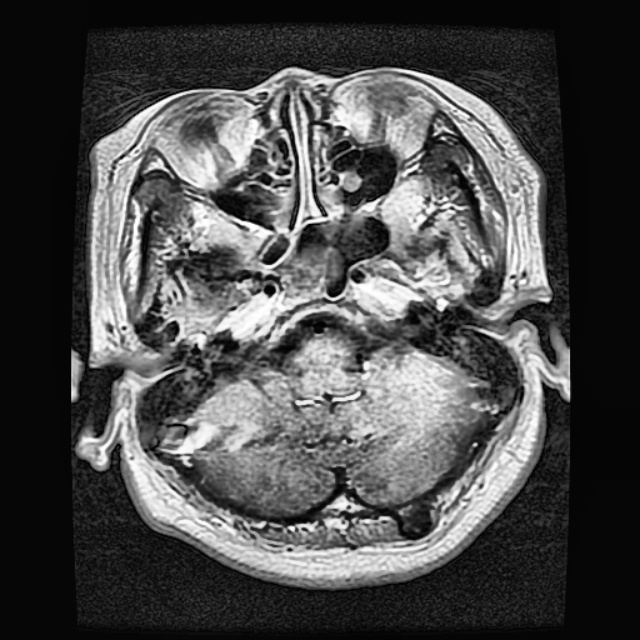Pituitary: (278, 248, 342, 300)
